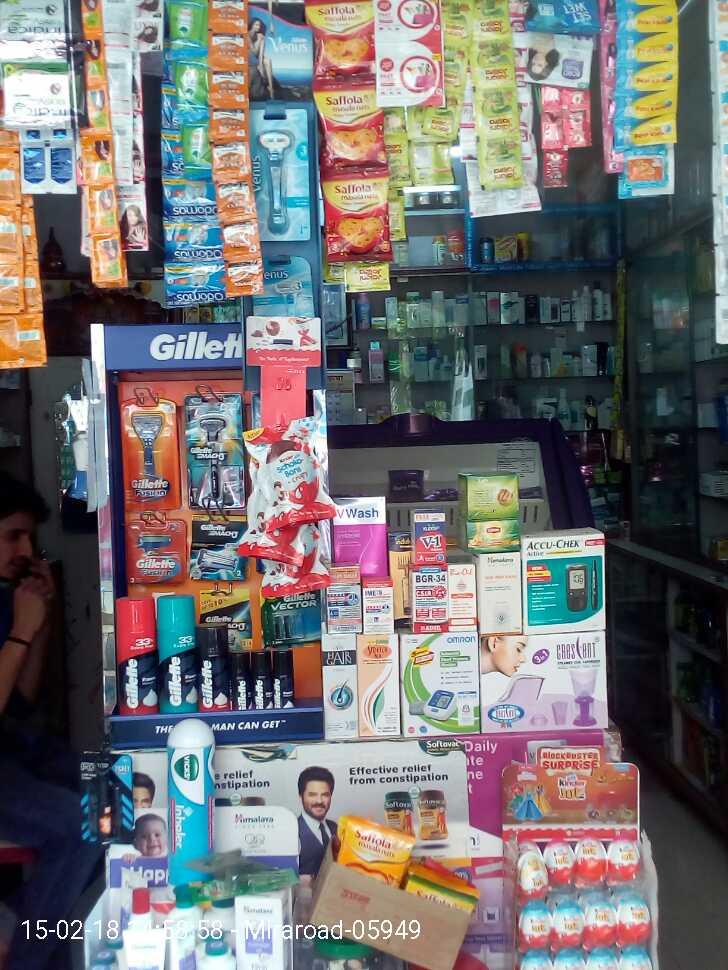beauty: (116, 400, 183, 513), (181, 395, 248, 500), (115, 597, 160, 713), (159, 593, 204, 706), (186, 516, 256, 584), (124, 521, 186, 578), (200, 625, 233, 712), (260, 597, 315, 636), (277, 651, 298, 722), (231, 657, 251, 709), (253, 654, 272, 707)
